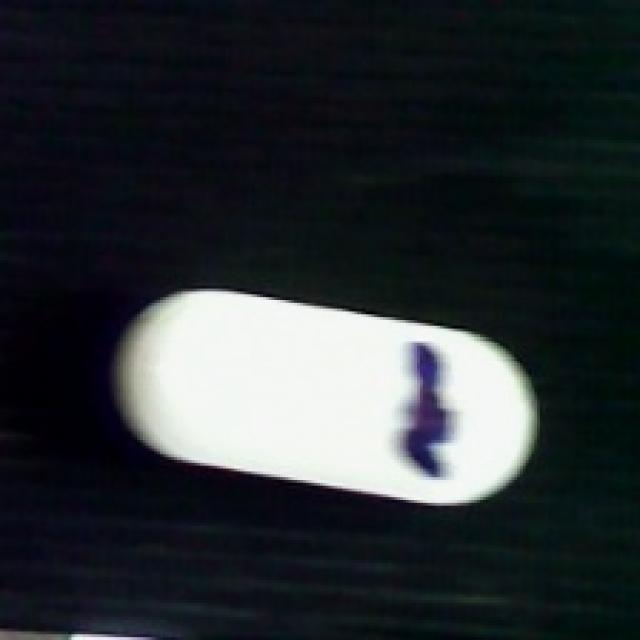defected: (108, 288, 543, 508)
